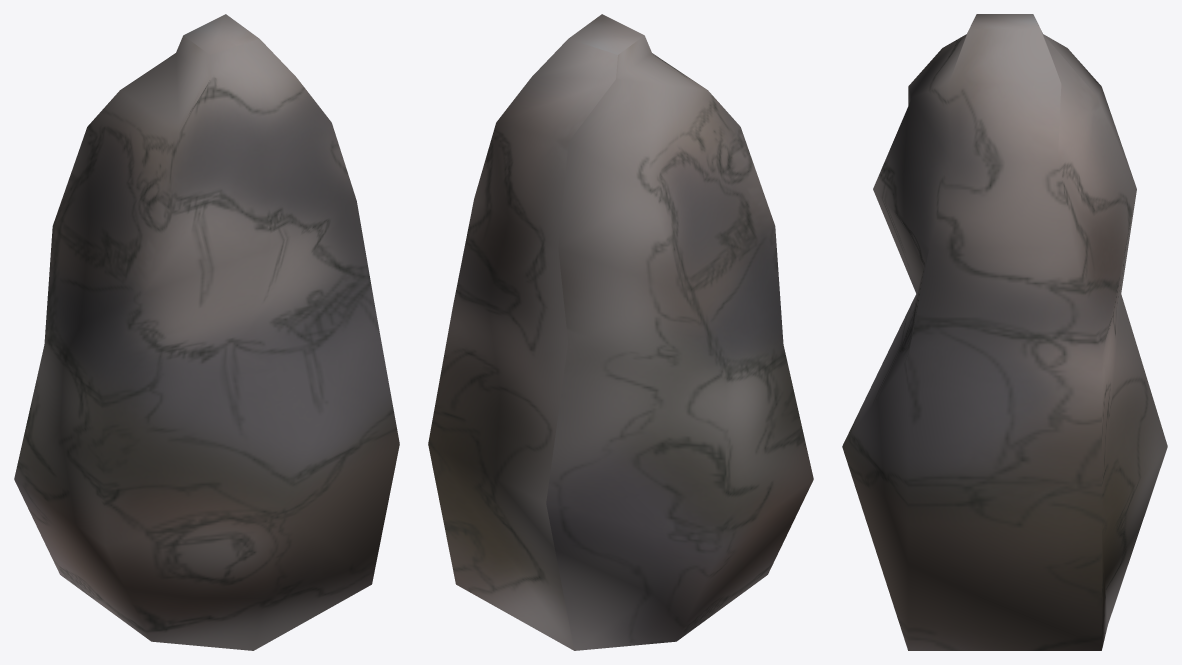
File: Rock01.fbx
3 renders of one model, left to right at view 1: azimuth 30°, elevation 25°; view 2: azimuth 150°, elevation 25°; view 3: azimuth 270°, elevation 25°, orthographic. The views are drawn at different scales.
Parts seen in each view (by area): view 1: Rock01; view 2: Rock01; view 3: Rock01.
Boxes of the visible parts, bbox=[...] form: Rock01: bbox=[14, 14, 399, 650]; Rock01: bbox=[428, 14, 813, 650]; Rock01: bbox=[842, 14, 1167, 650].
Size of the model in its own units: 1.33 by 2.5 by 1.2.
Materials: 1 (1 with a texture image).
